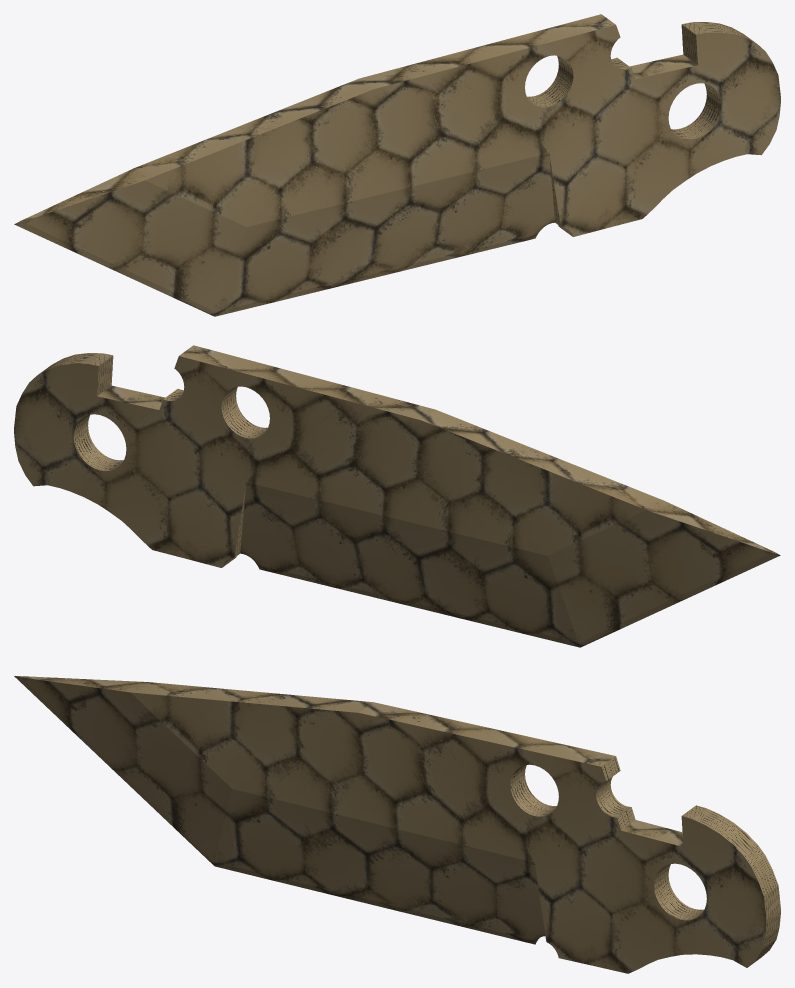
Rendered from knife.glb.
3 views of the same model, one above another, from view 1: azimuth 30°, elevation 25°; view 2: azimuth 150°, elevation 25°; view 3: azimuth 330°, elevation 25° (orthographic).
Parts seen in each view (by area): view 1: Cube.001; view 2: Cube.001; view 3: Cube.001.
Boxes of the visible parts, left/top/right/bottom form: Cube.001: left=14, top=14, right=780, bottom=316; Cube.001: left=14, top=345, right=780, bottom=647; Cube.001: left=14, top=676, right=780, bottom=973.
Bounding box in the file's own units: 5.09 × 1.29 × 0.1698.
1 material, 1 textured.
